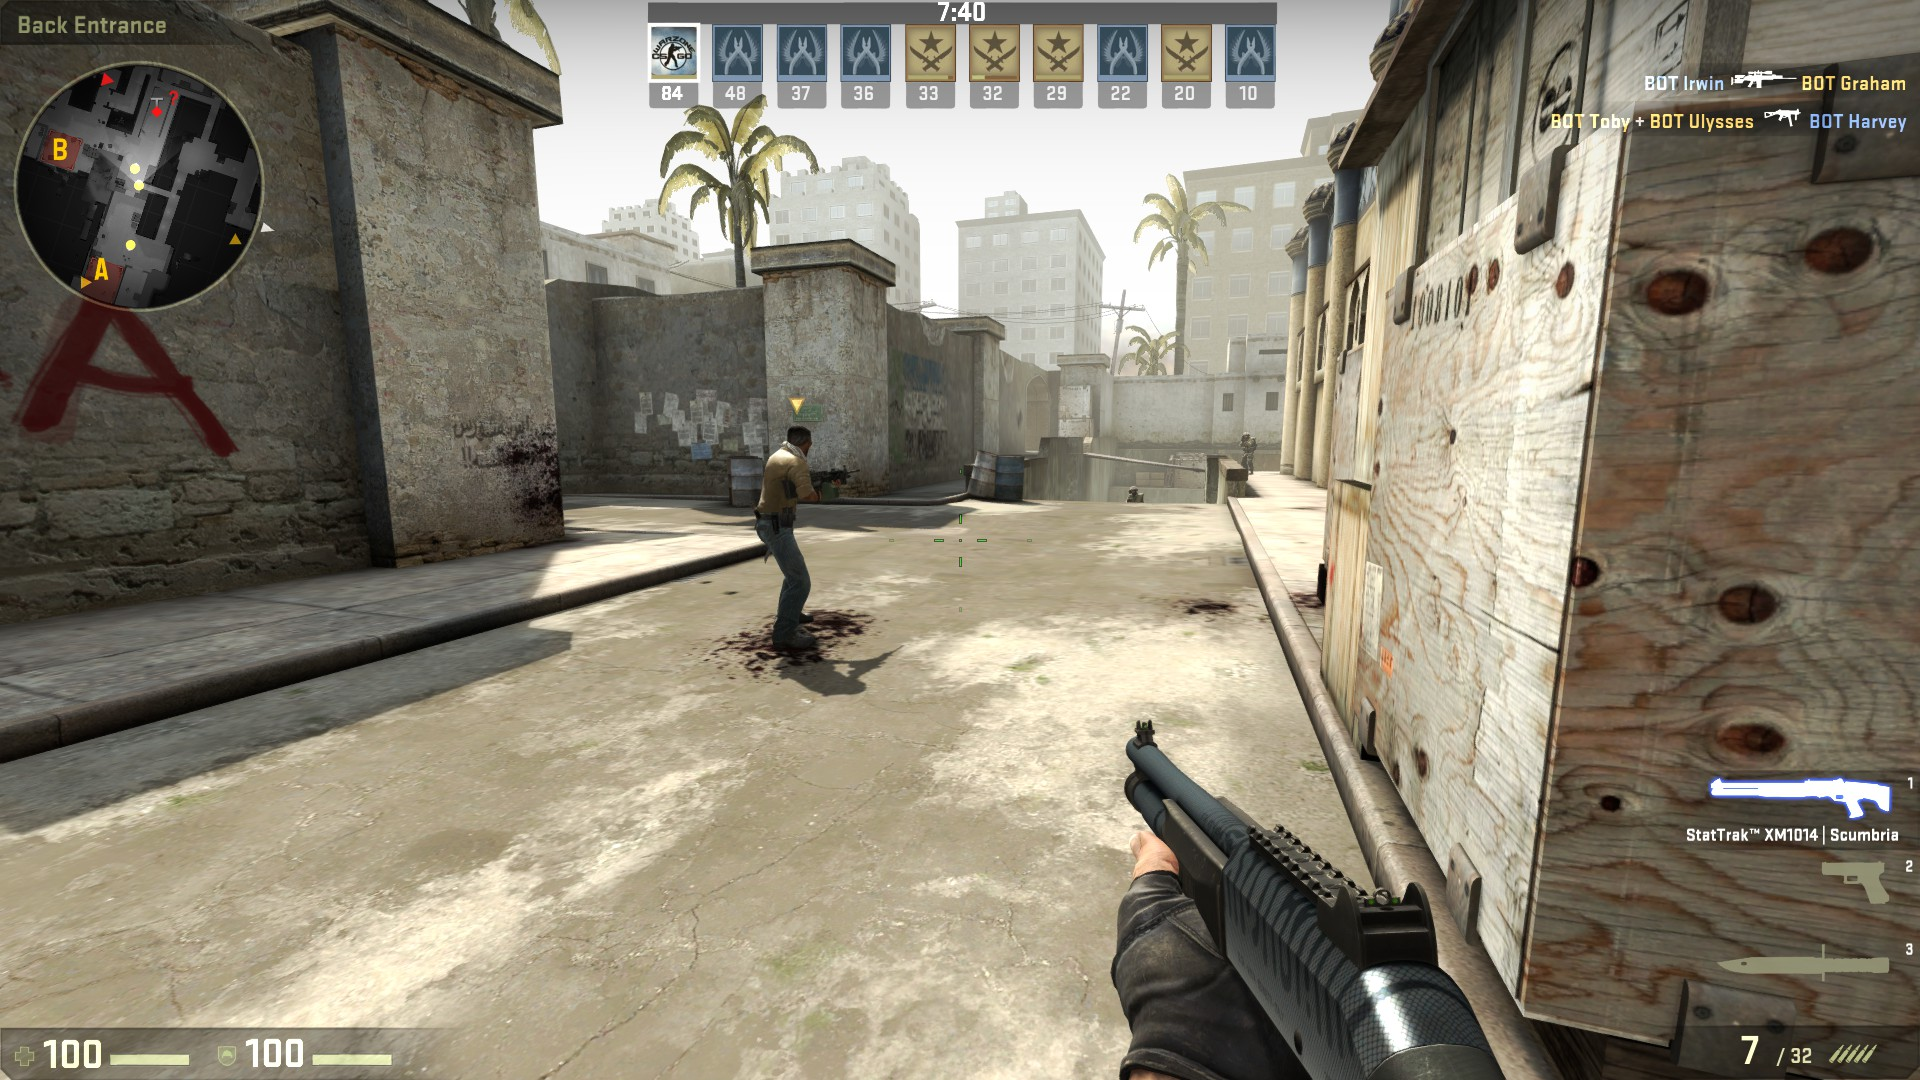c: (1242, 431, 1257, 476), (1126, 485, 1143, 505)
ch: (1127, 485, 1139, 496), (1242, 431, 1251, 443)
t: (748, 425, 824, 653)
th: (781, 422, 816, 460)
